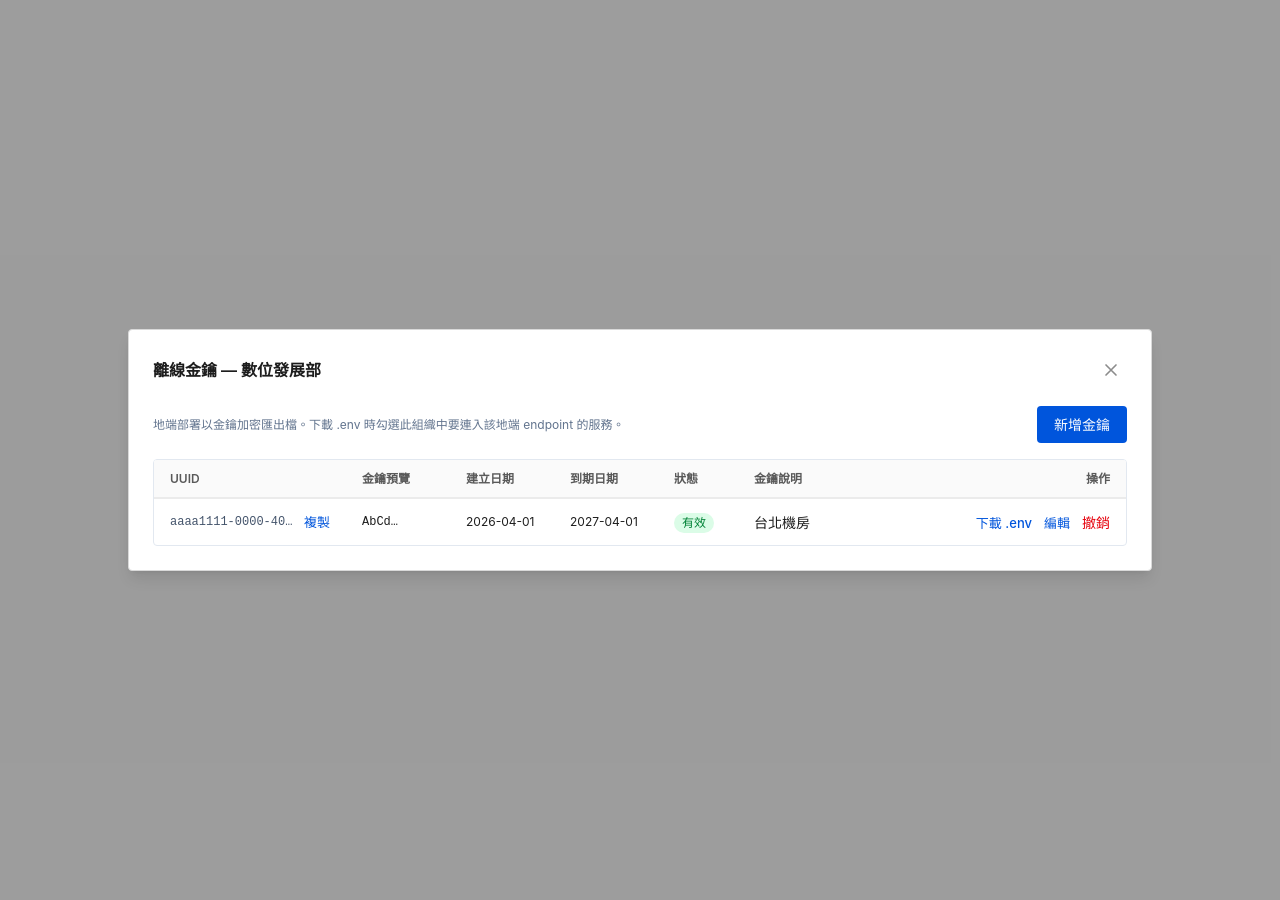
Scenario: OrganizationKeysModal — create › requires an expiry time
The width and height of the screenshot is (1280, 900).
Check: the text "AbCd…" is shown, box left=346, top=499, right=450, bottom=545
Click the button "新增金鑰": x=1082, y=424 left=1037, top=406, right=1127, bottom=443
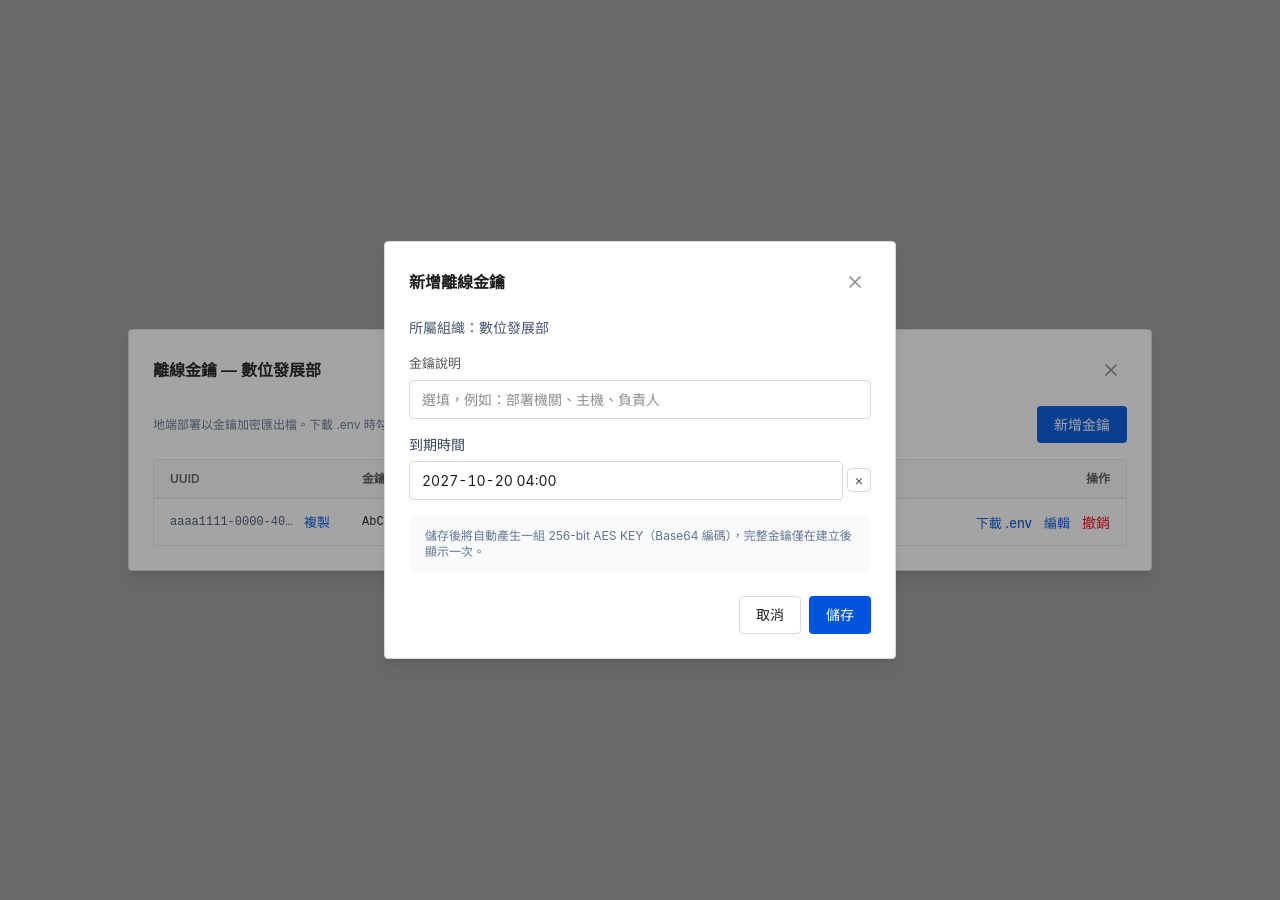
Click the button named "清除到期時間": x=859, y=480 left=847, top=468, right=871, bottom=492
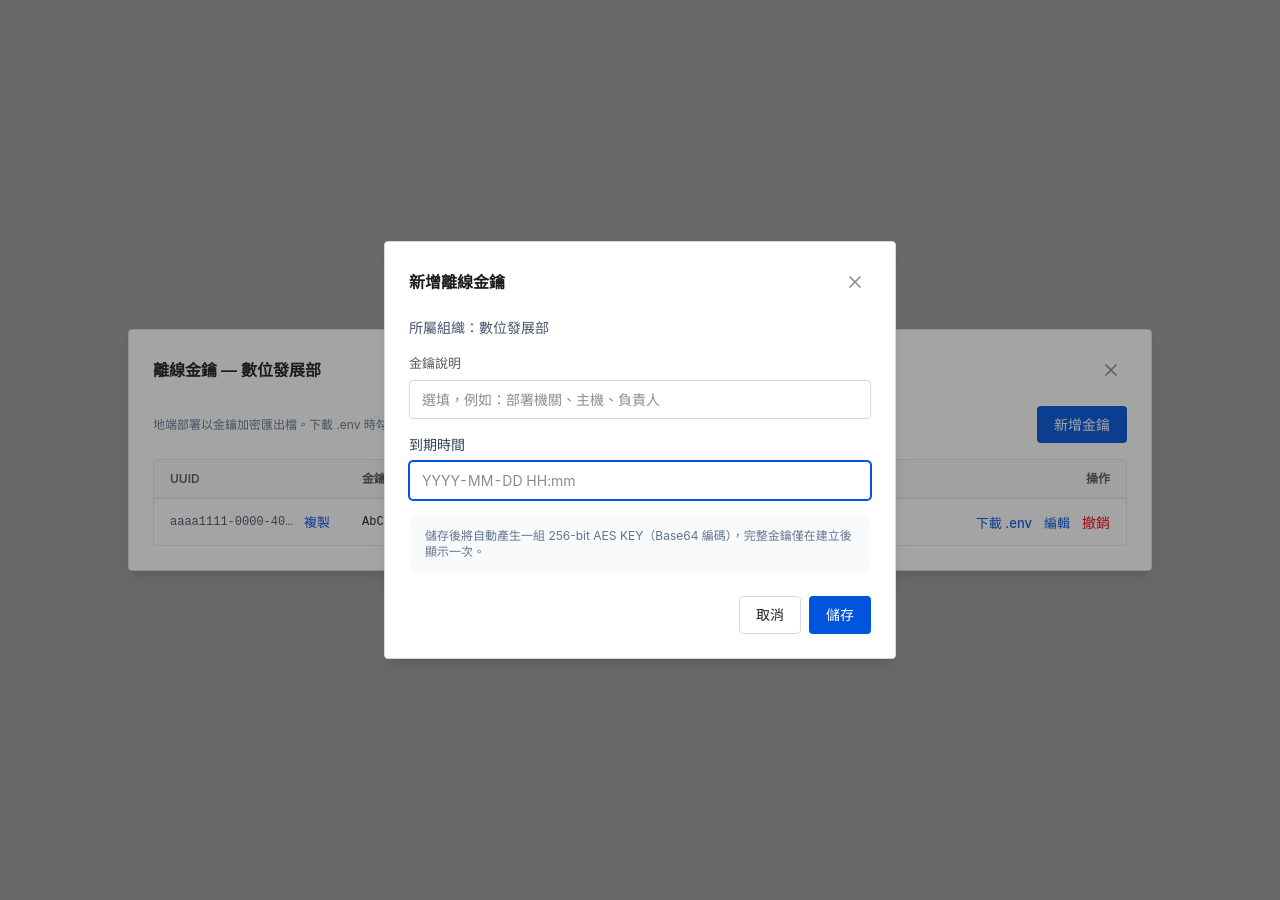
Click the button "儲存": x=840, y=615 left=809, top=596, right=871, bottom=634
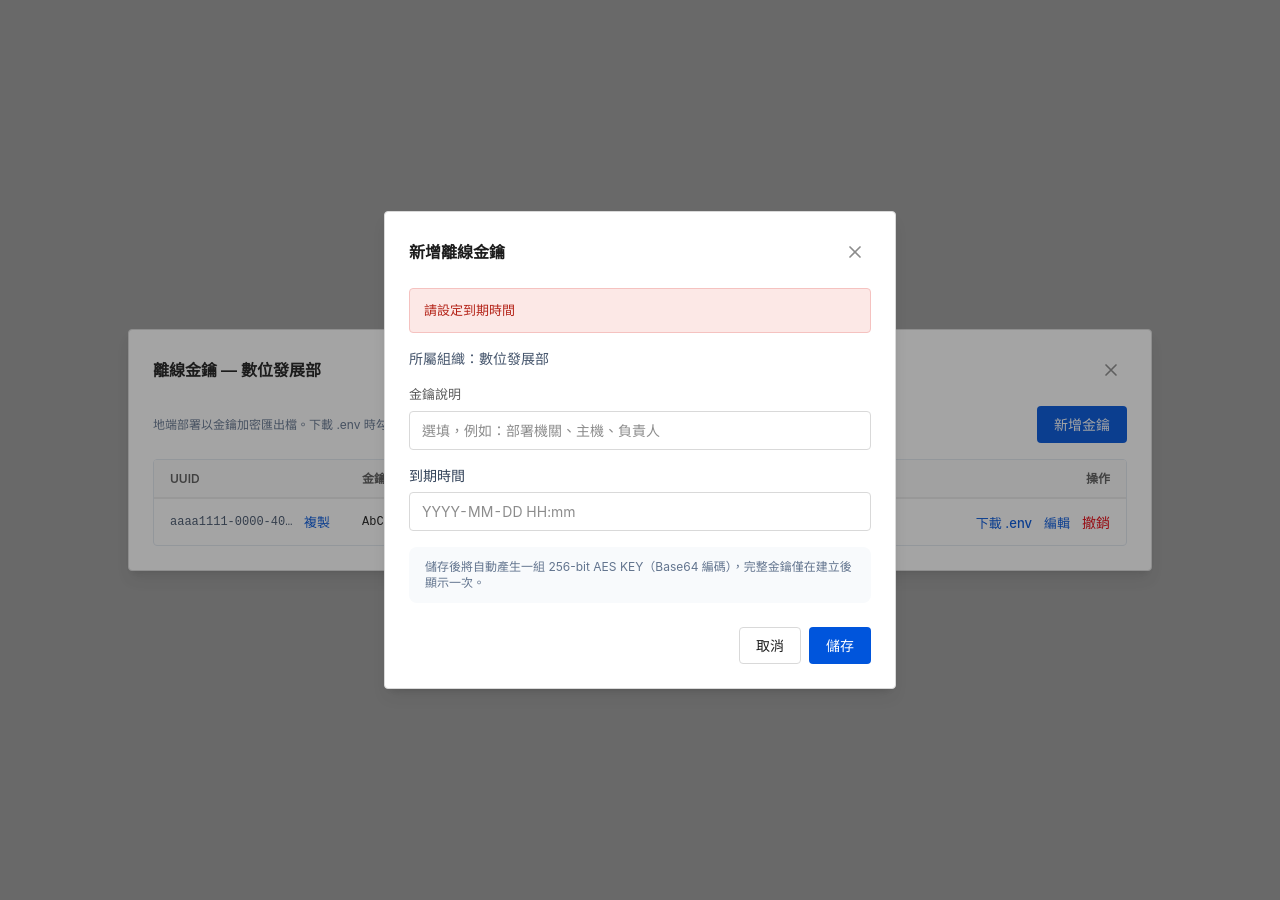
Check: the text "請設定到期時間" is shown, box left=409, top=288, right=871, bottom=333
